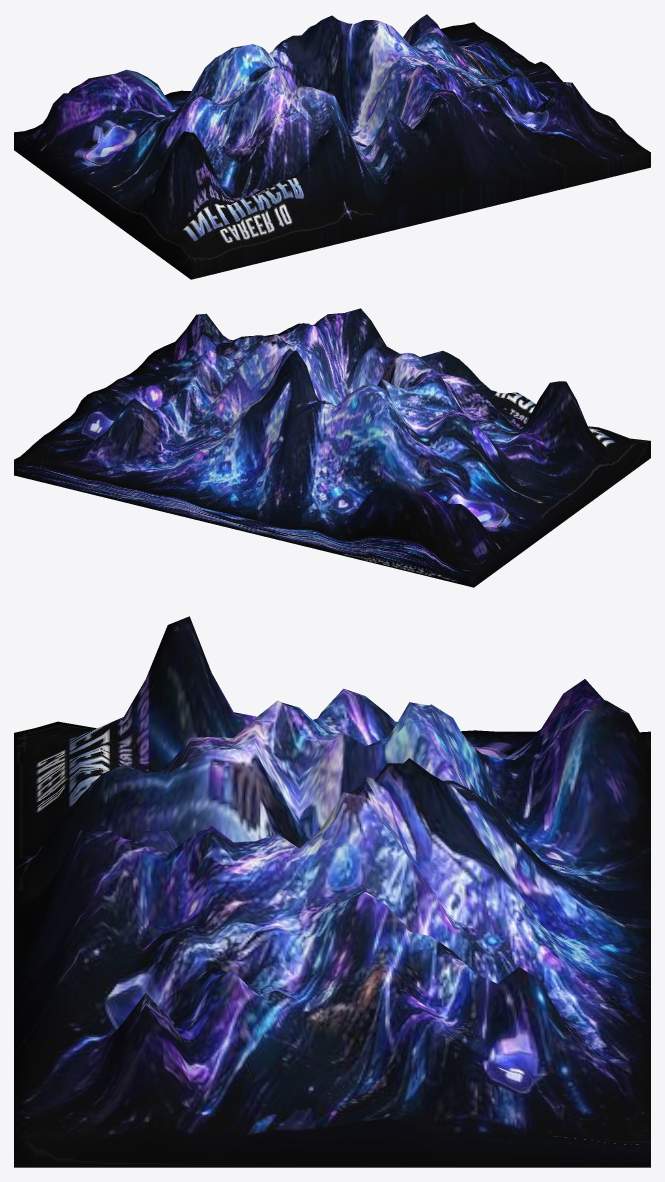
Rendered from CAREER_10_VFX_03_Viral.glb.
The picture shows the model from 3 angles, top to bottom: view 1: azimuth 30°, elevation 25°; view 2: azimuth 150°, elevation 25°; view 3: azimuth 270°, elevation 25°; orthographic projection. The views are drawn at different scales.
Visible parts, largest first — view 1: CAREER_10_VFX_03_Viral; view 2: CAREER_10_VFX_03_Viral; view 3: CAREER_10_VFX_03_Viral.
Boxes of the visible parts, x1,y1,x2,y2 form: CAREER_10_VFX_03_Viral: [14, 14, 650, 279]; CAREER_10_VFX_03_Viral: [14, 308, 650, 587]; CAREER_10_VFX_03_Viral: [14, 616, 650, 1167].
Size of the model in its own units: 2 by 0.51 by 1.33.
Materials: 1 (1 with a texture image).
